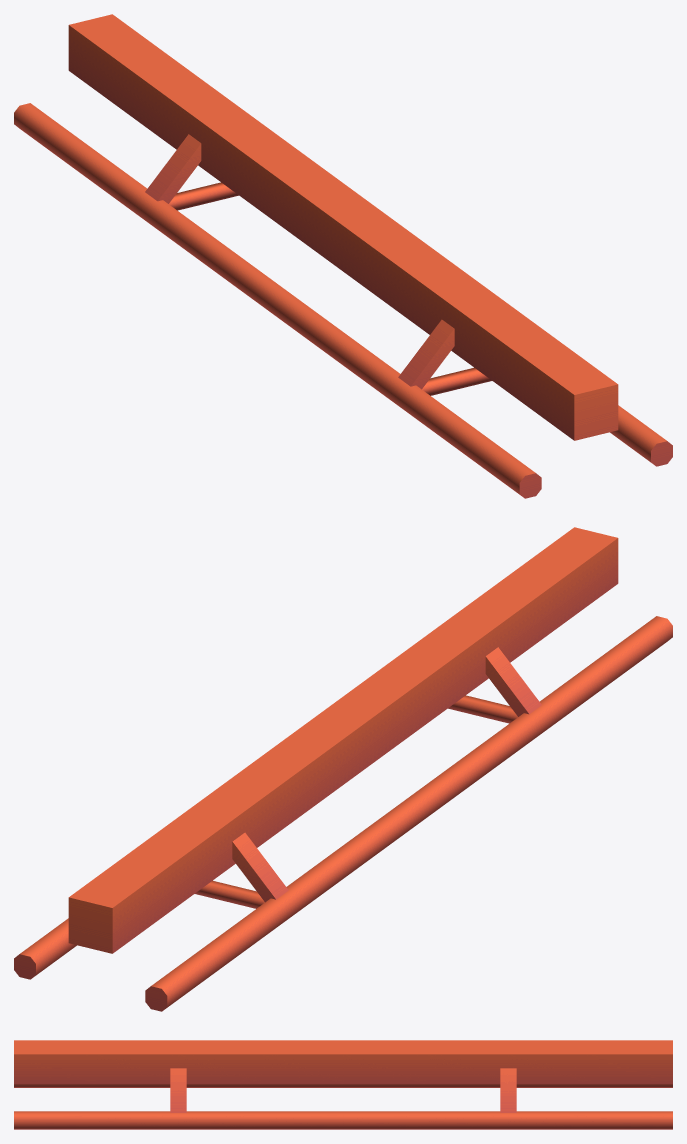
File: coaster-hanging-straight.glb
3 renders of one model, top to bottom at view 1: azimuth 30°, elevation 25°; view 2: azimuth 150°, elevation 25°; view 3: azimuth 270°, elevation 25°, orthographic. The views are drawn at different scales.
Visible parts, largest first — view 1: coaster-hanging-straight; view 2: coaster-hanging-straight; view 3: coaster-hanging-straight.
Part boxes in pixels (box(x1,y1,x2,y2)): coaster-hanging-straight: box(14, 14, 672, 498); coaster-hanging-straight: box(14, 527, 672, 1011); coaster-hanging-straight: box(14, 1040, 672, 1129).
Bounding box in the file's own units: 2.1 × 1.2 × 12.
1 material, 1 textured.
